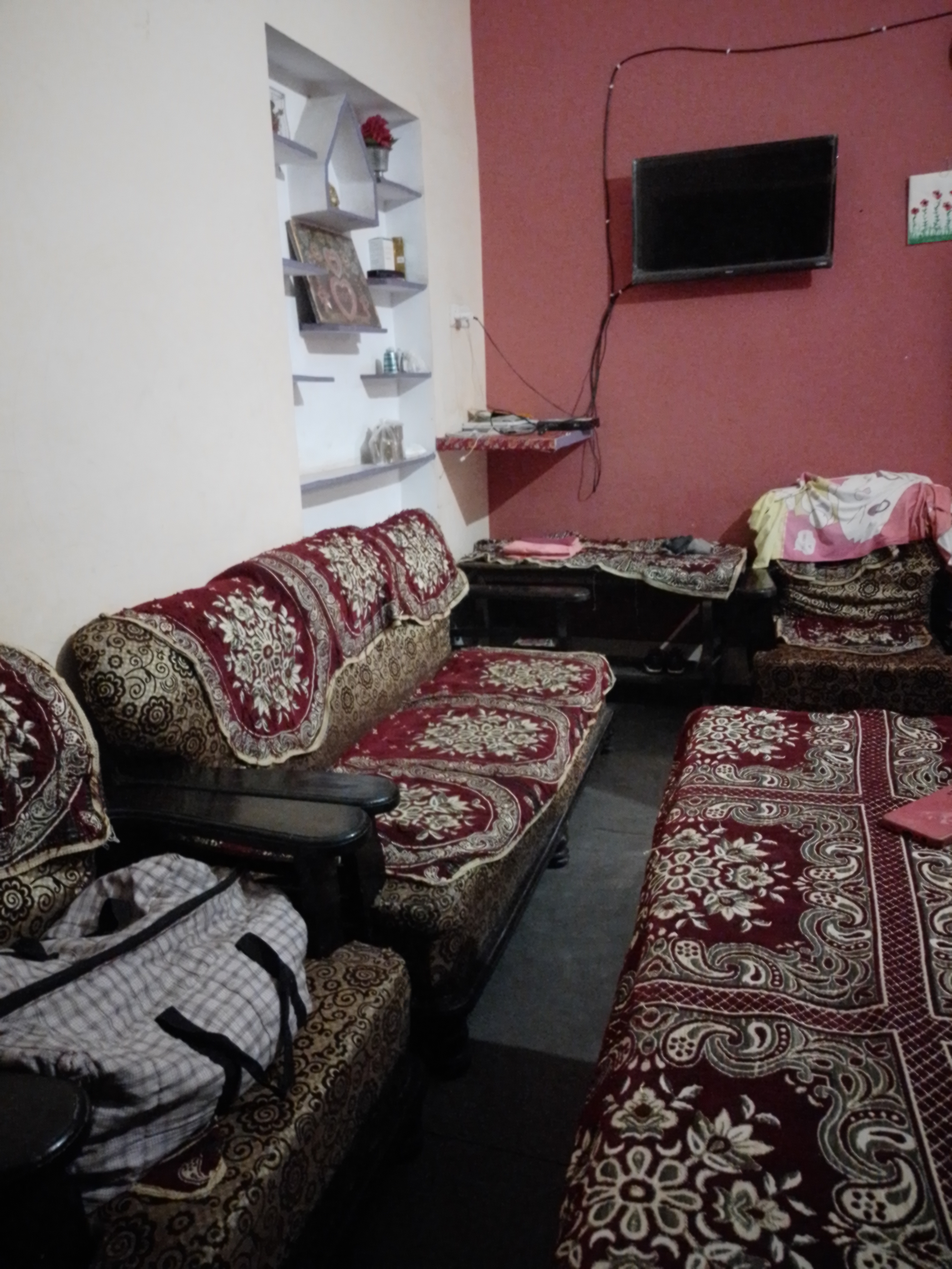sofa: (59, 506, 616, 1017), (0, 645, 423, 1269), (698, 472, 952, 692)
table: (547, 700, 952, 1269)
